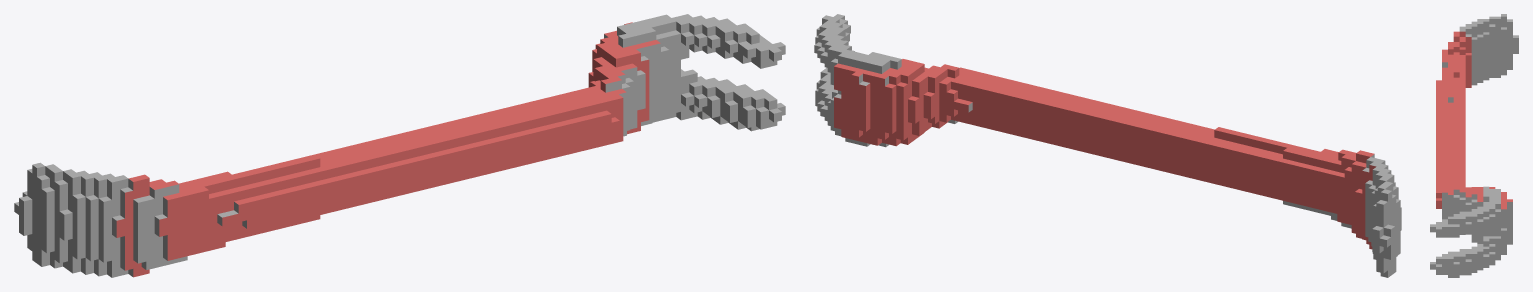
Rendered from Crowbar.fbx.
3 views of the same model, side by side, from view 1: azimuth 30°, elevation 25°; view 2: azimuth 150°, elevation 25°; view 3: azimuth 270°, elevation 25° (orthographic). The views are drawn at different scales.
Parts seen in each view (by area): view 1: Crowbar; view 2: Crowbar; view 3: Crowbar.
Boxes of the visible parts, x1=… form: Crowbar: x1=14, y1=14, x2=785, y2=277; Crowbar: x1=814, y1=14, x2=1401, y2=277; Crowbar: x1=1430, y1=14, x2=1518, y2=277.
Bounding box in the file's own units: 1010 × 131 × 178.
